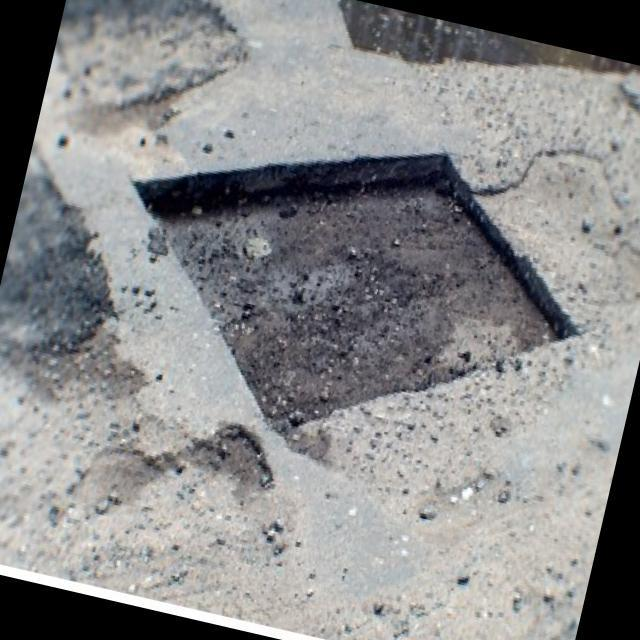Pothole: (85, 86, 610, 496), (297, 0, 640, 134)
